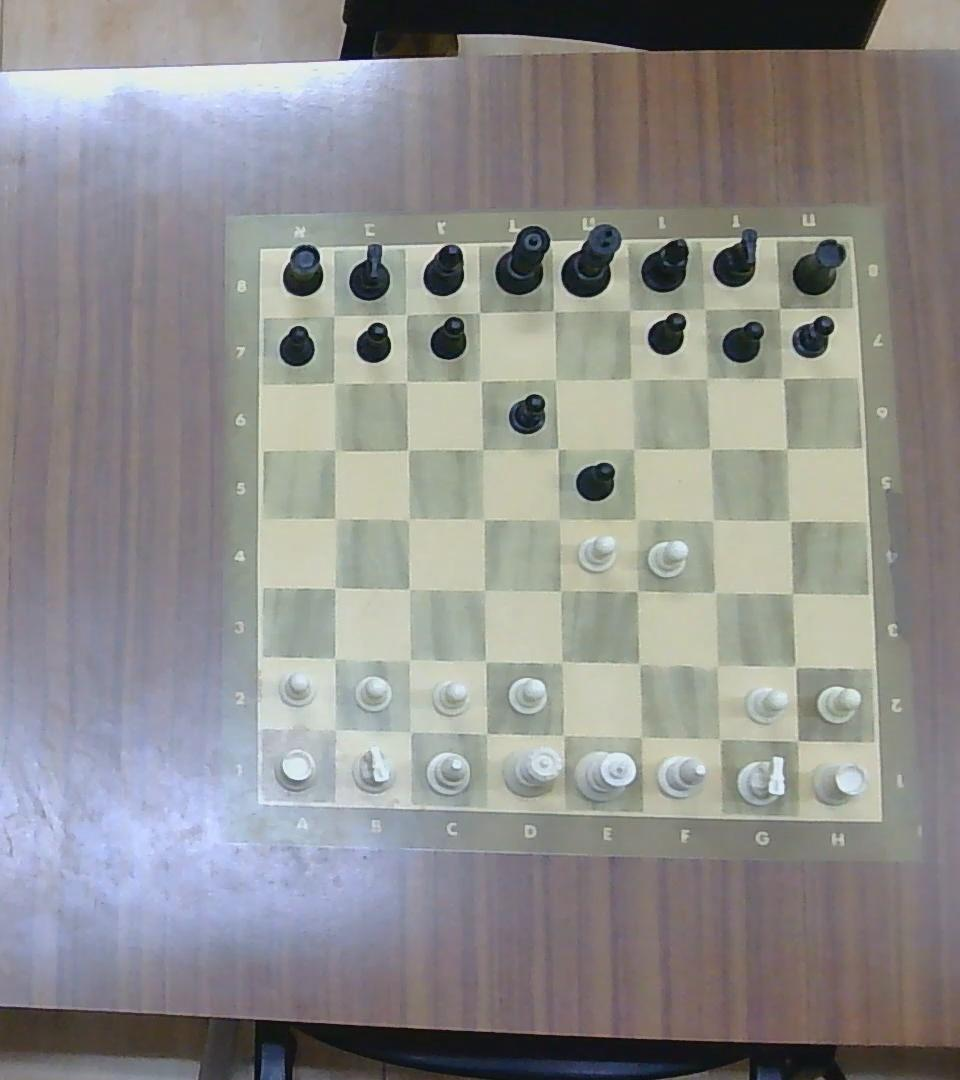xcorner: (784, 728, 824, 758), (622, 651, 660, 680), (778, 656, 818, 682), (393, 504, 428, 533), (464, 504, 500, 532), (551, 573, 584, 603), (471, 648, 506, 676), (616, 363, 646, 394), (394, 720, 426, 749), (392, 646, 428, 671), (322, 642, 353, 671), (769, 290, 797, 322), (322, 713, 350, 745), (769, 433, 802, 460), (548, 722, 582, 748), (693, 434, 724, 462), (619, 578, 653, 603), (542, 648, 576, 673), (319, 501, 348, 530), (319, 367, 347, 397), (468, 363, 496, 393), (469, 720, 499, 748), (698, 504, 730, 530), (769, 363, 798, 391), (625, 722, 656, 748), (541, 505, 573, 530), (321, 575, 353, 600), (772, 580, 805, 604), (704, 728, 738, 751), (463, 301, 496, 324), (776, 504, 802, 533), (615, 435, 645, 460), (320, 303, 348, 329), (622, 506, 652, 530), (615, 296, 643, 320), (701, 656, 729, 680), (545, 436, 572, 460), (470, 578, 497, 602), (396, 301, 420, 327), (323, 437, 346, 464), (694, 296, 718, 321), (548, 366, 573, 390), (694, 366, 719, 390), (398, 577, 423, 601), (392, 369, 418, 392), (700, 579, 728, 600), (399, 439, 425, 461), (544, 300, 570, 321), (470, 437, 494, 459)
